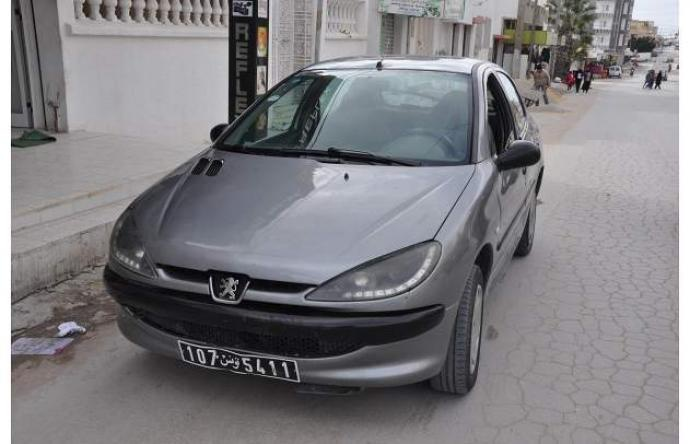LP: (178, 340, 303, 386)
